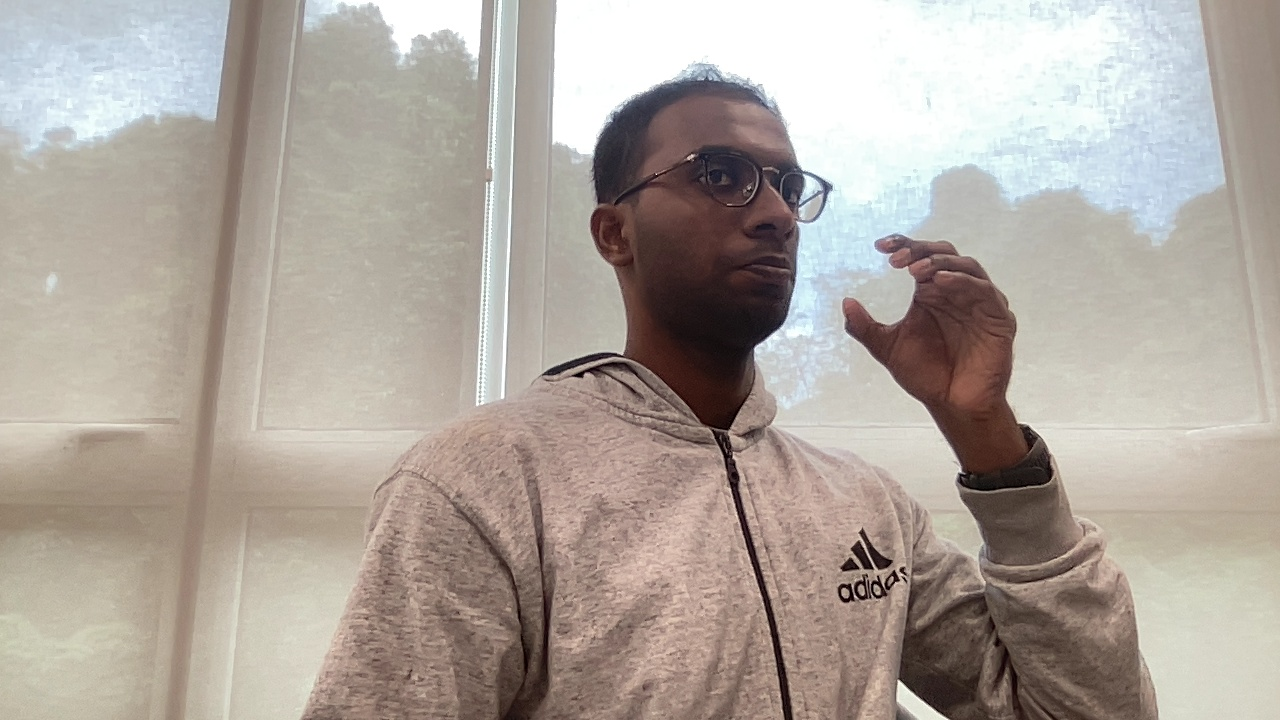drink: (839, 228, 1039, 434)
